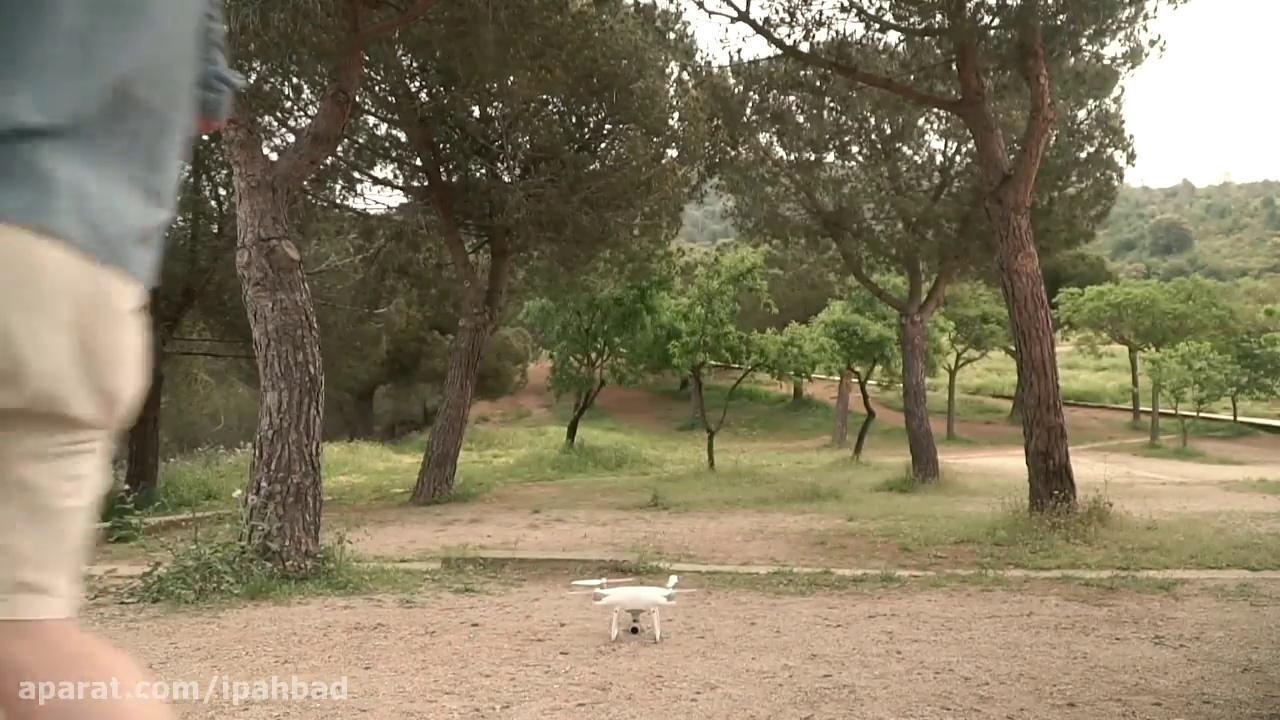drone: (570, 569, 699, 645)
